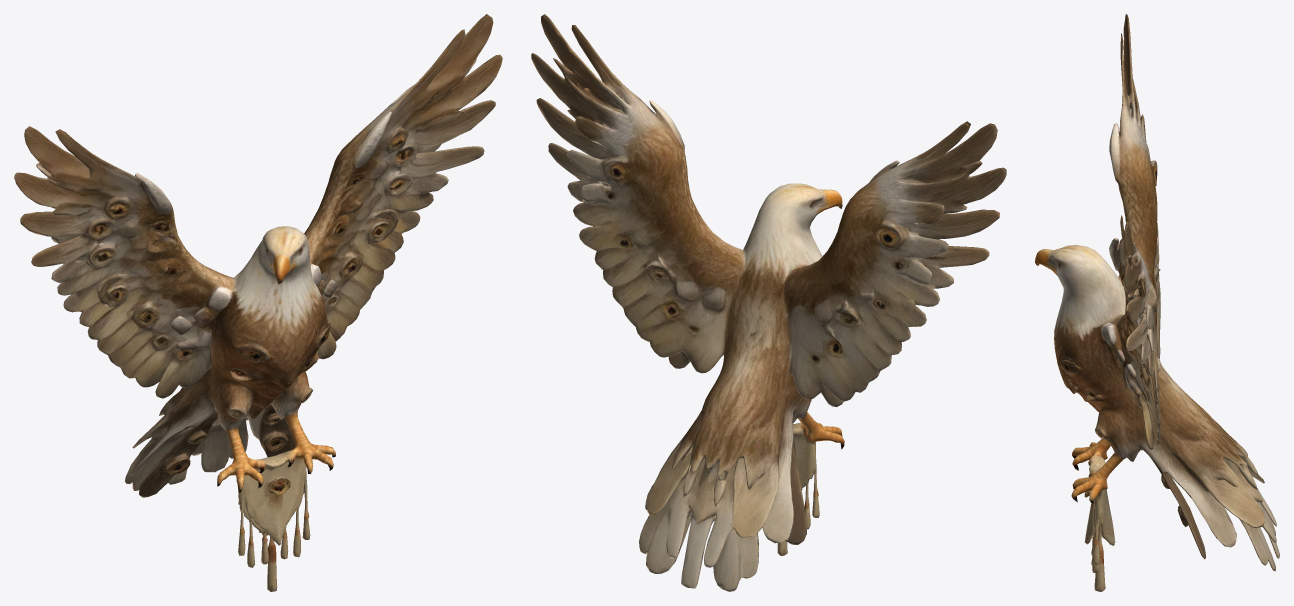
File: beastEagle.glb
3 renders of one model, left to right at view 1: azimuth 30°, elevation 25°; view 2: azimuth 150°, elevation 25°; view 3: azimuth 270°, elevation 25°, orthographic. The views are drawn at different scales.
Visible parts, largest first — view 1: geometry_0; view 2: geometry_0; view 3: geometry_0.
Boxes of the visible parts, bbox=[...] form: geometry_0: bbox=[14, 14, 502, 591]; geometry_0: bbox=[531, 14, 1006, 591]; geometry_0: bbox=[1035, 14, 1279, 591].
Size of the model in its own units: 0.9983 by 0.9969 by 0.4674.
Materials: 1 (1 with a texture image).
